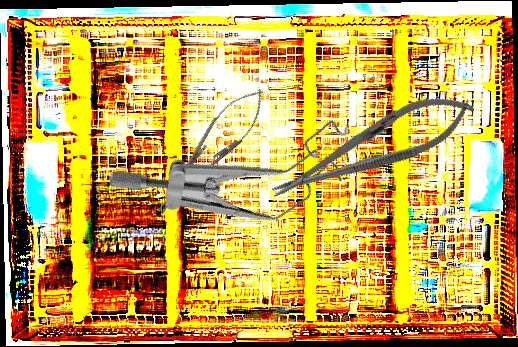Needle Holder: (261, 78, 484, 217), (146, 78, 276, 222)
Speculum: (104, 49, 374, 289)
